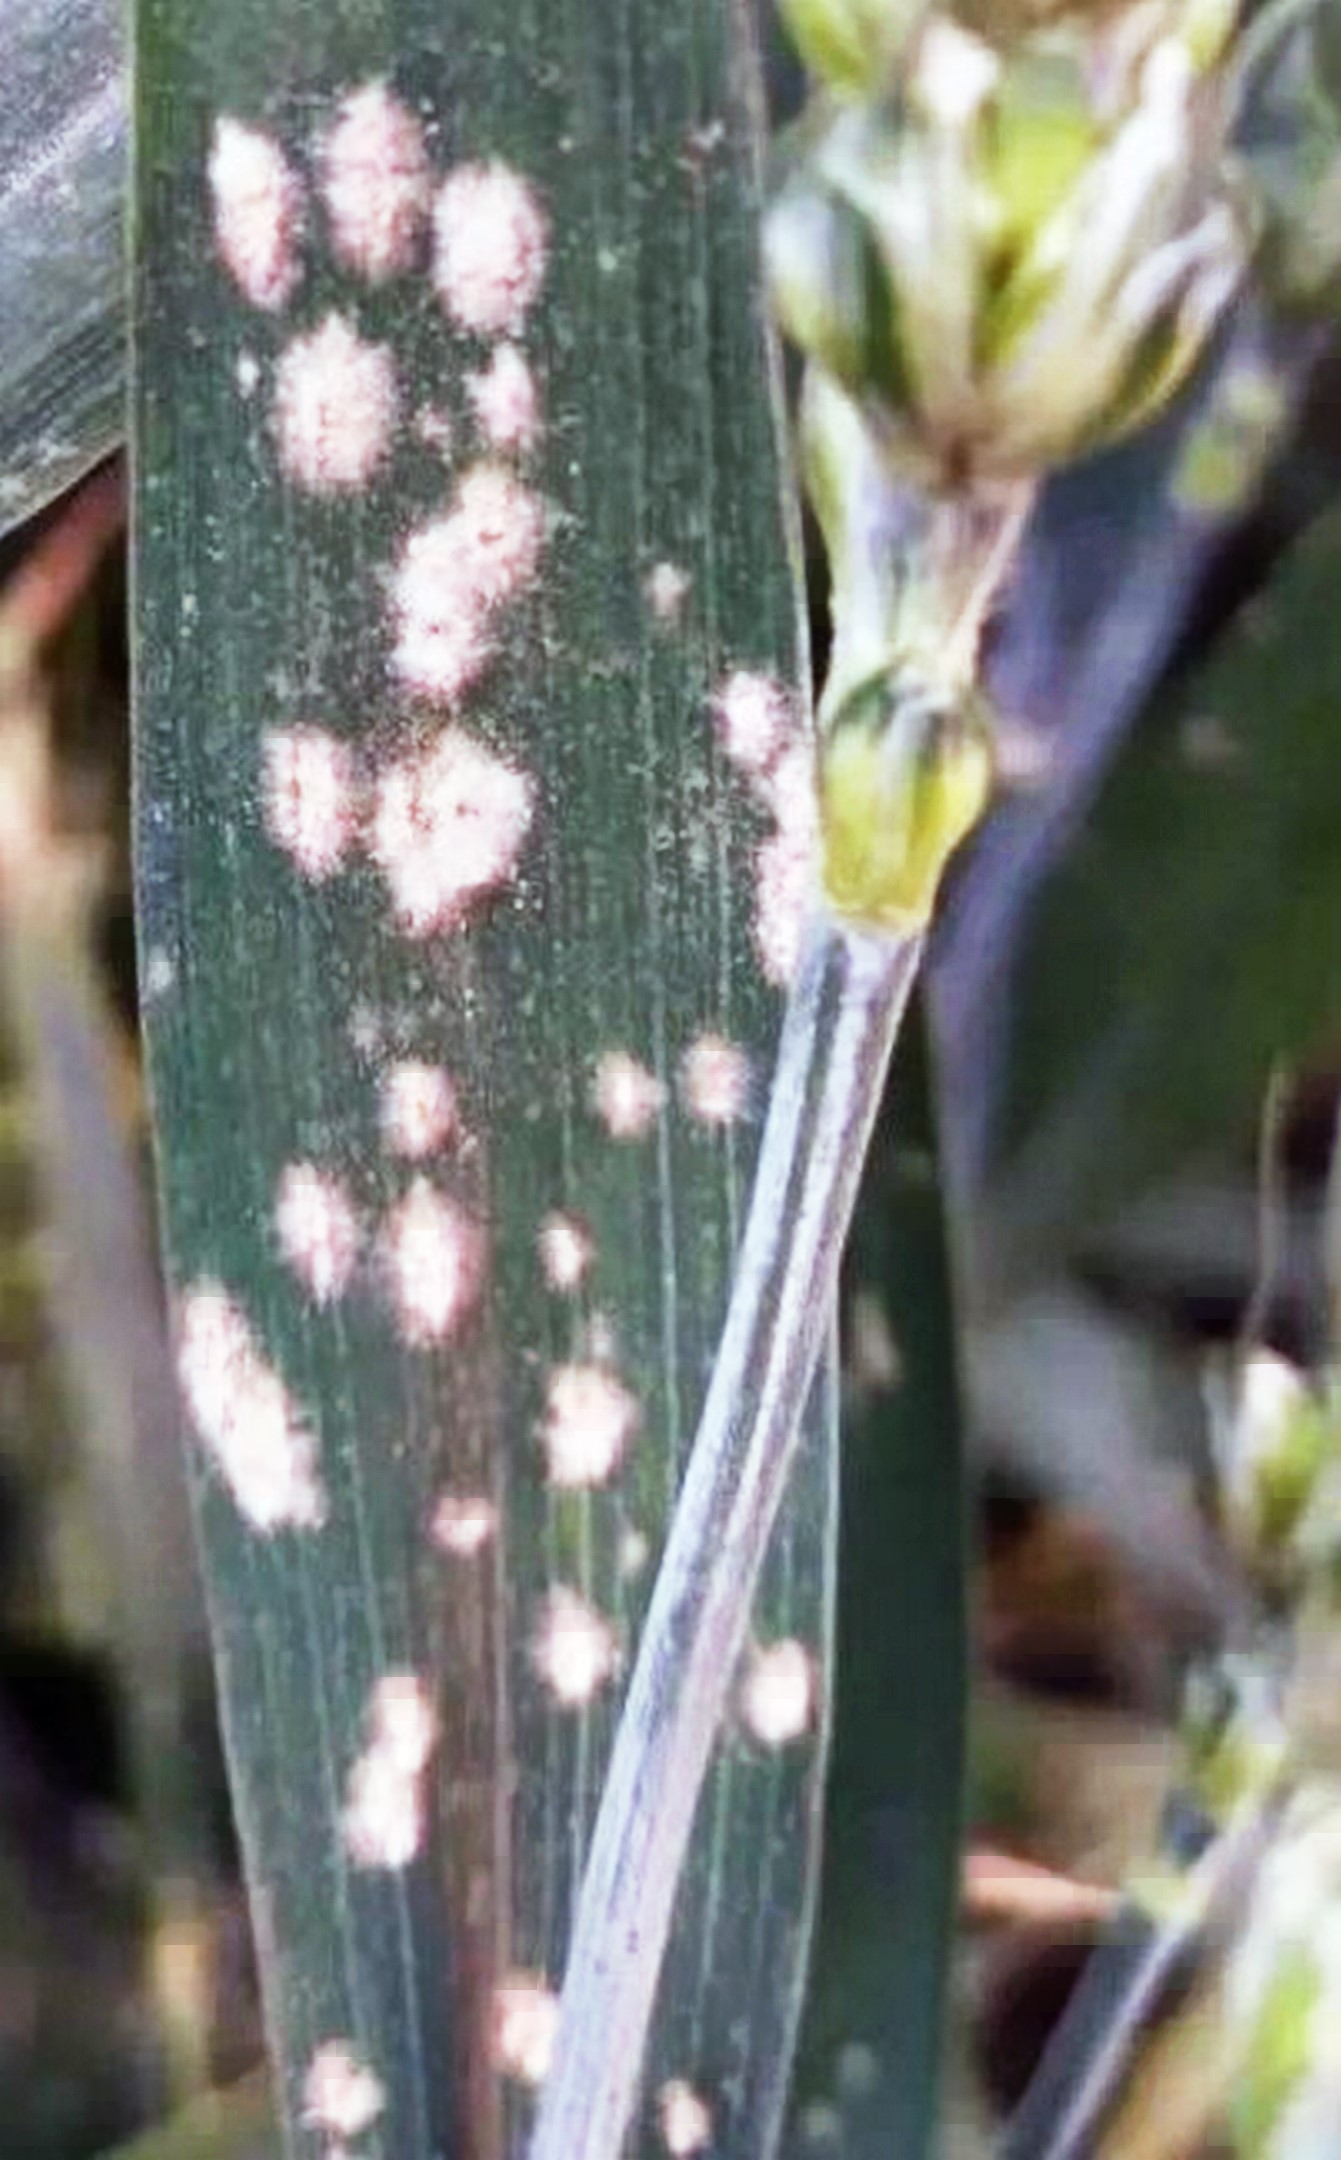Powdery Mildew: (127, 145, 822, 2053)
